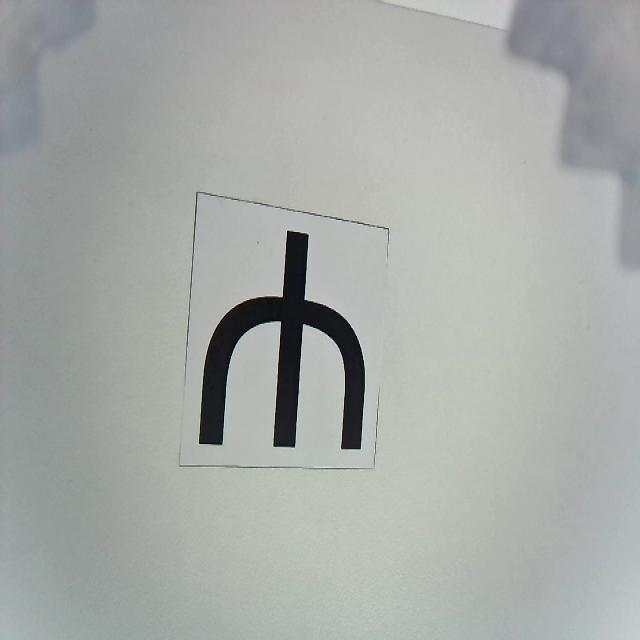nedoF: (200, 230, 366, 450)
